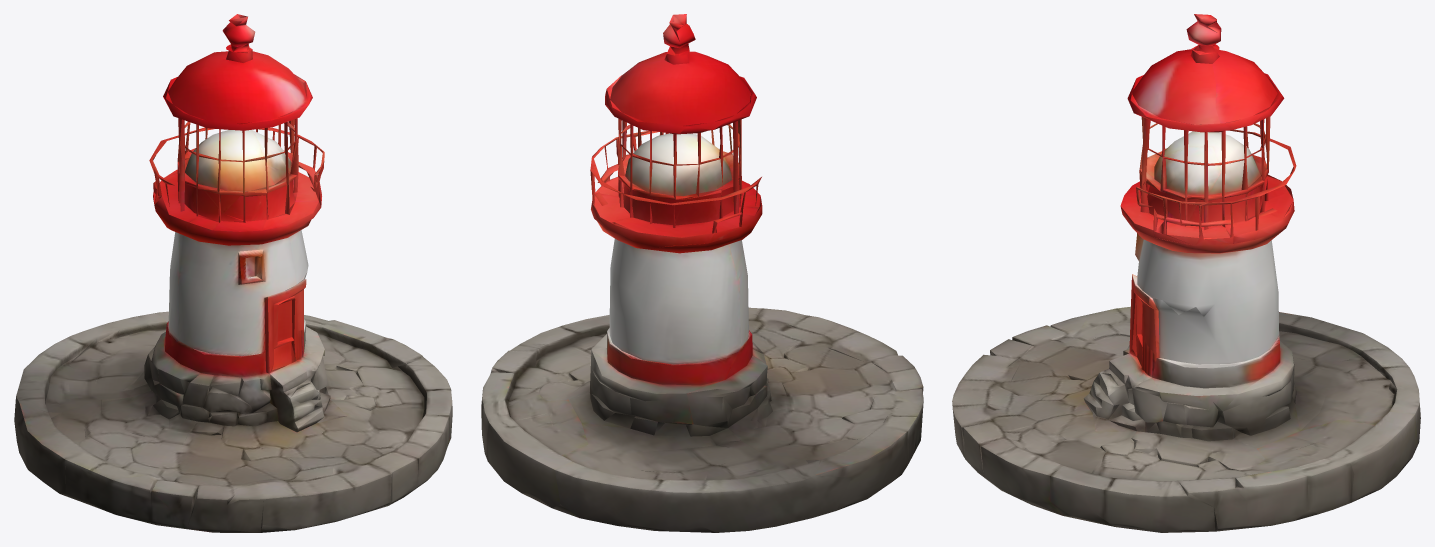
The model's file is lighthouseV2.glb.
3 views of the same model, side by side, from view 1: azimuth 30°, elevation 25°; view 2: azimuth 150°, elevation 25°; view 3: azimuth 270°, elevation 25° (orthographic). The views are drawn at different scales.
Parts seen in each view (by area): view 1: model; view 2: model; view 3: model.
Boxes of the visible parts, x1,y1,x2,y2 form: model: (14, 14, 452, 532); model: (481, 14, 923, 532); model: (952, 14, 1420, 532).
Size of the model in its own units: 1.82 by 1.9 by 1.87.
Materials: 1 (1 with a texture image).
